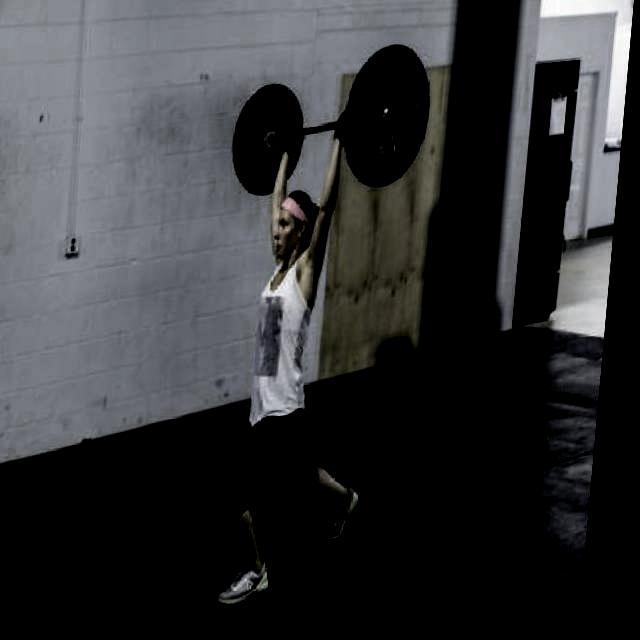barbell: (329, 50, 437, 203)
